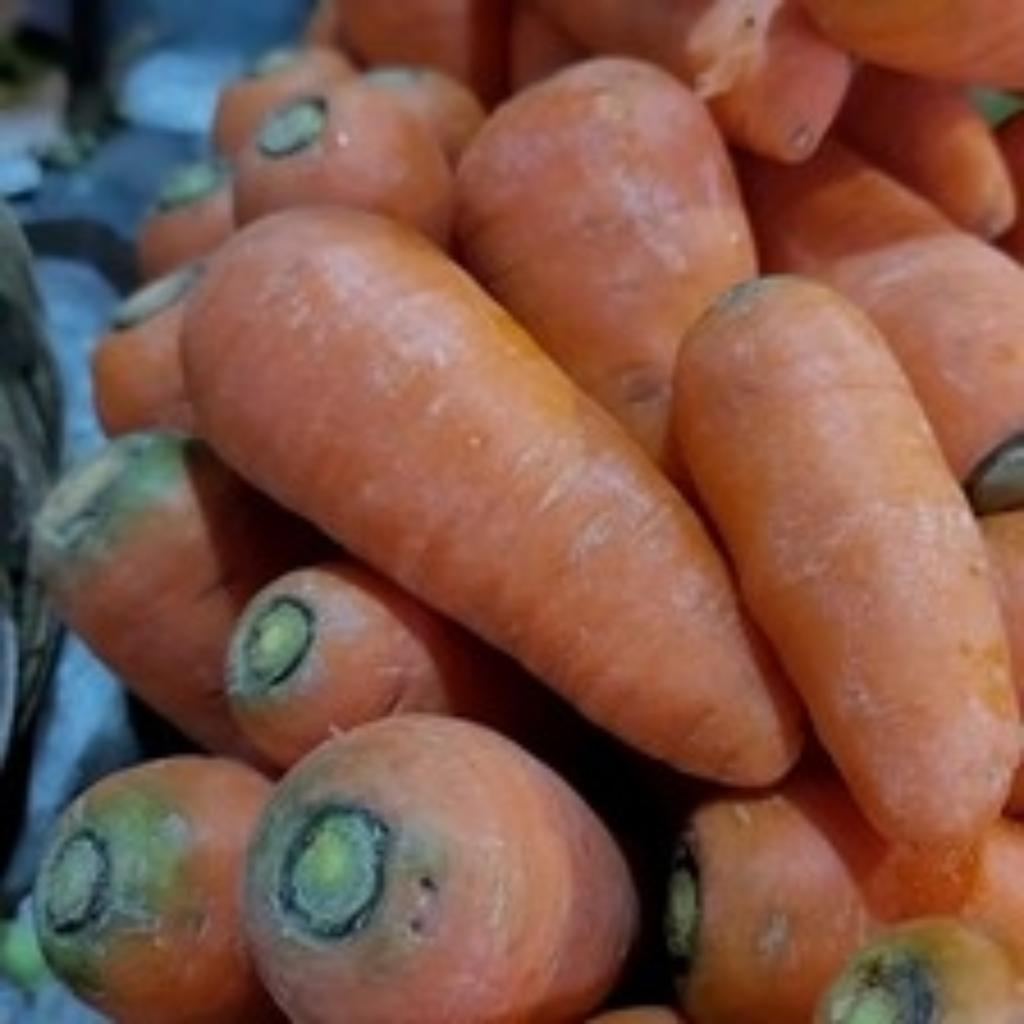carrot: (37, 0, 1015, 1015), (178, 206, 791, 777)
